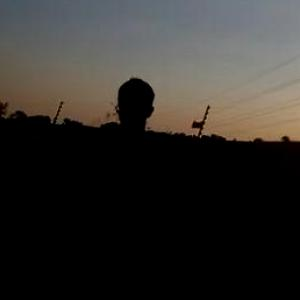follow: (48, 67, 178, 299)
